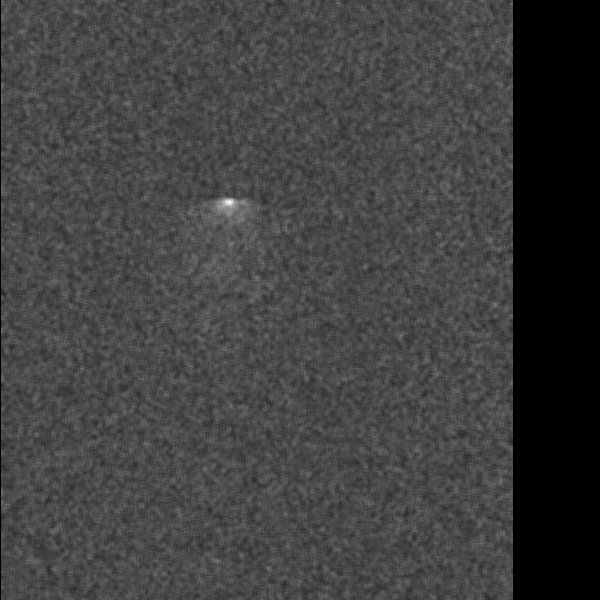spark: (310, 151, 330, 200)
